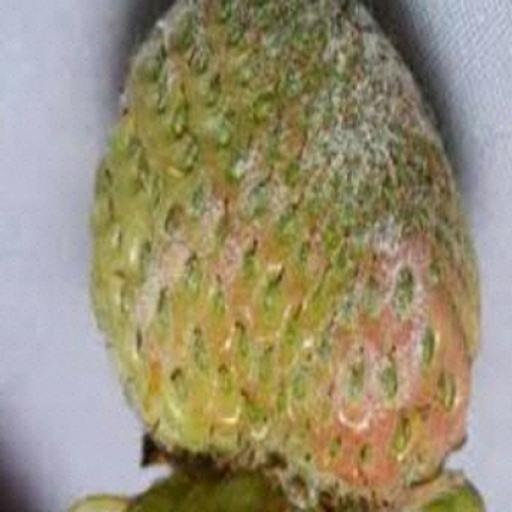Powdery Mildew Fruit: (108, 3, 476, 511)
